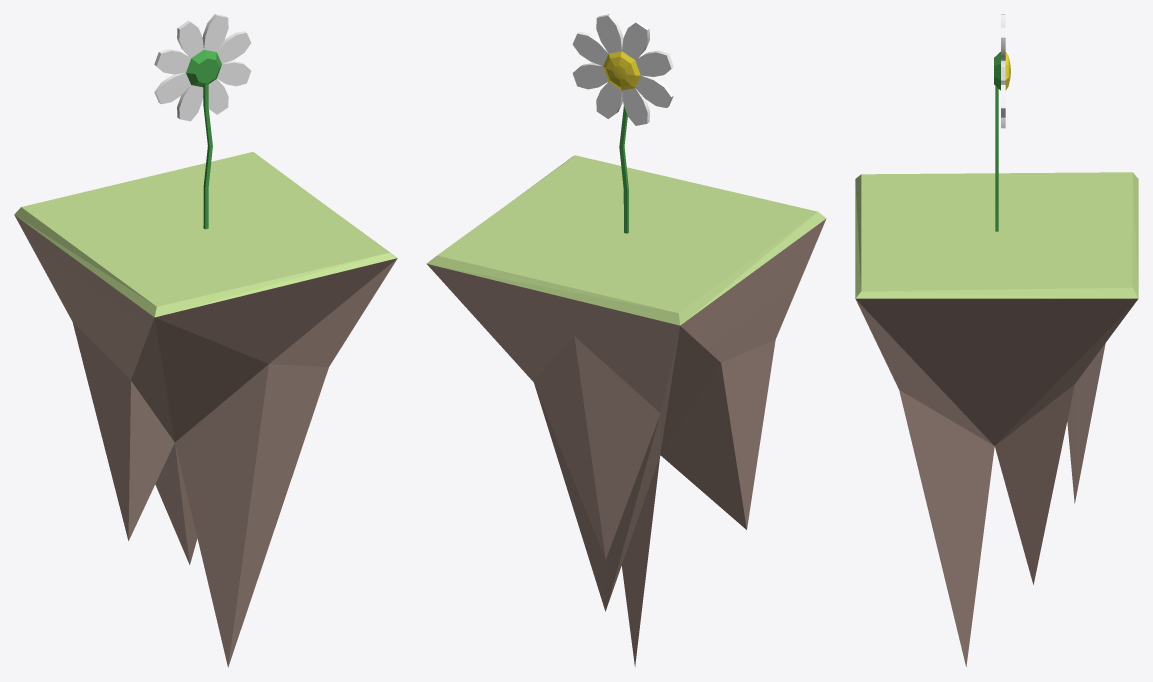
The model's file is flower.gltf.
3 renders of one model, left to right at view 1: azimuth 30°, elevation 25°; view 2: azimuth 150°, elevation 25°; view 3: azimuth 270°, elevation 25°, orthographic. The views are drawn at different scales.
Visible parts, largest first — view 1: group1926919455, Flower_01; view 2: group1926919455, Flower_01; view 3: group1926919455, Flower_01.
Part boxes in pixels (x1,y1,x2,y2): group1926919455: [14, 152, 397, 667]; Flower_01: [154, 14, 251, 229]; group1926919455: [426, 155, 826, 666]; Flower_01: [572, 14, 673, 233]; group1926919455: [855, 172, 1138, 666]; Flower_01: [994, 14, 1010, 231].
Size of the model in its own units: 3.15 by 7.9 by 3.15.
